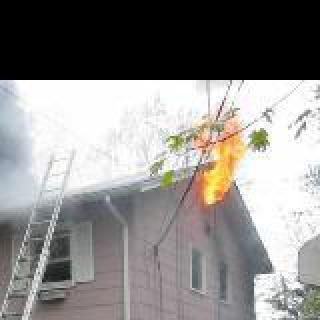fire: (0, 80, 36, 228), (194, 126, 244, 202)
